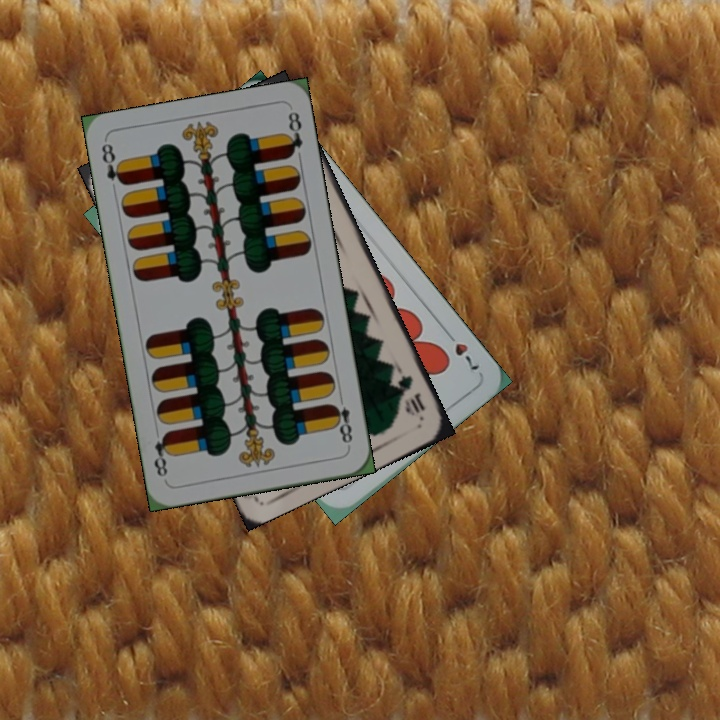E8: (327, 391, 355, 450), (97, 139, 128, 188)
G10: (394, 371, 428, 419)
H7: (440, 325, 483, 377)
